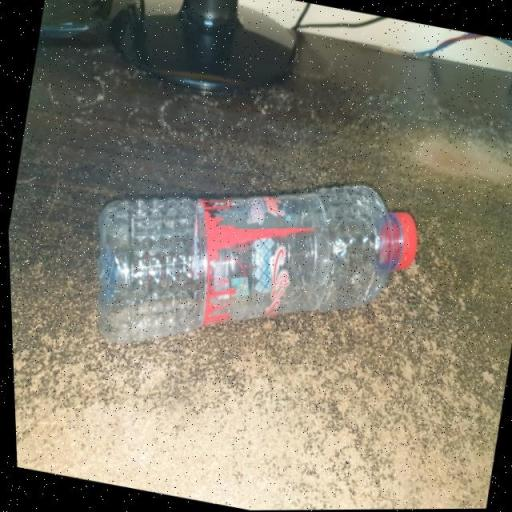plastic: (65, 130, 436, 404)
